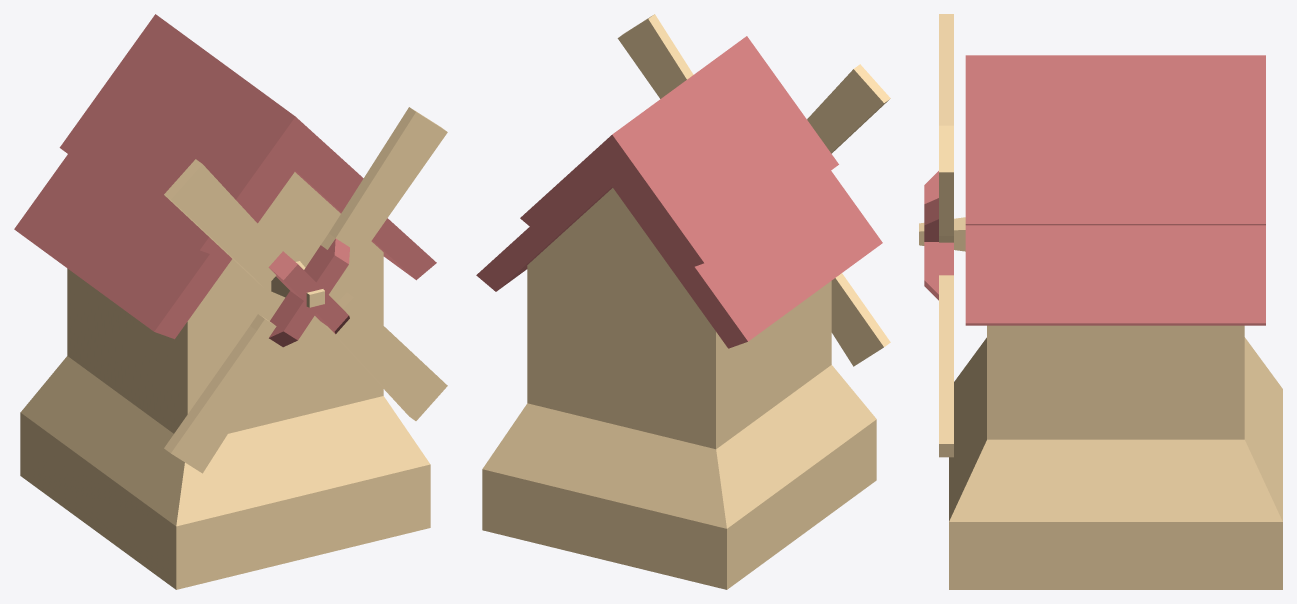
File: WindMill.fbx
The picture shows the model from 3 angles, left to right: view 1: azimuth 30°, elevation 25°; view 2: azimuth 150°, elevation 25°; view 3: azimuth 270°, elevation 25°; orthographic projection. The views are drawn at different scales.
Parts seen in each view (by area): view 1: House, Fan; view 2: House, Fan; view 3: House, Fan.
Boxes of the visible parts, x1=… form: House: x1=14, y1=14, x2=436, y2=589; Fan: x1=164, y1=107, x2=447, y2=473; House: x1=476, y1=36, x2=882, y2=589; Fan: x1=617, y1=14, x2=890, y2=366; House: x1=919, y1=55, x2=1282, y2=589; Fan: x1=924, y1=14, x2=953, y2=457.
Bounding box in the file's own units: 140 × 206 × 145.
